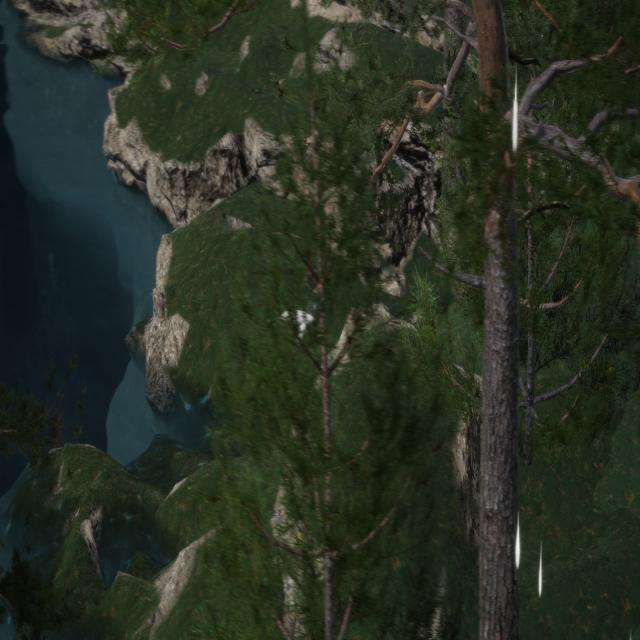Human: (269, 260, 332, 350)
